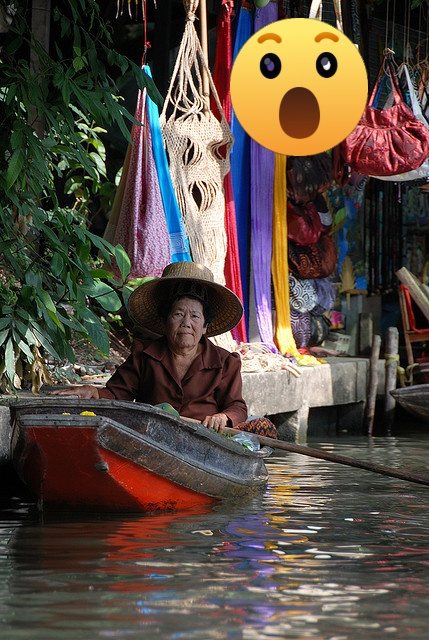wow: (230, 18, 368, 156)
